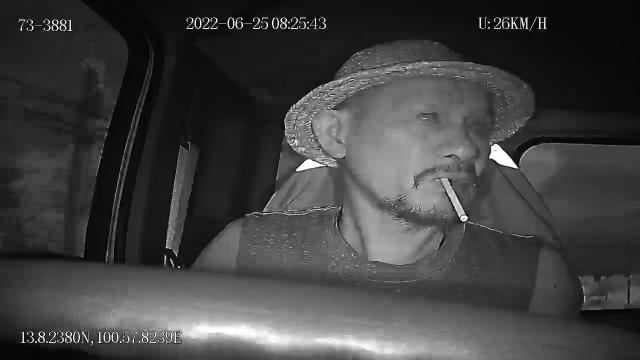Cigarette: (438, 175, 467, 224)
